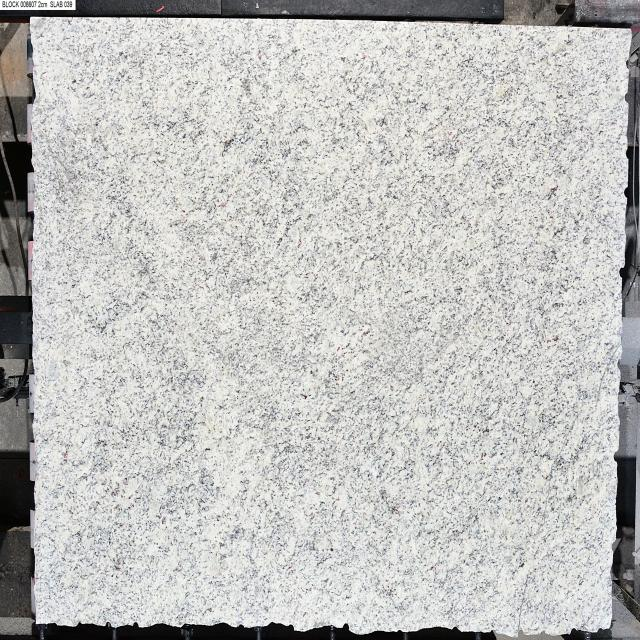chapa: (31, 18, 630, 634)
veio: (618, 262, 626, 280), (612, 449, 620, 465), (342, 622, 352, 634), (132, 618, 140, 632), (518, 628, 526, 638)
